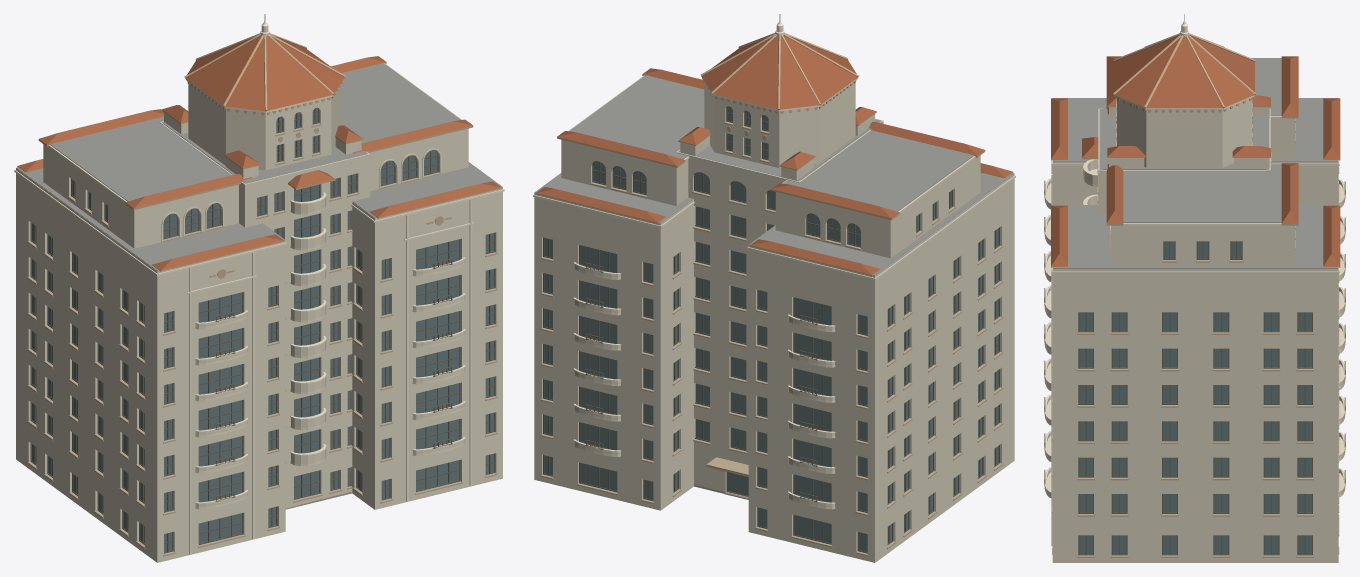
File: jingan-huaye-apartments-lod.glb
The picture shows the model from 3 angles, left to right: view 1: azimuth 30°, elevation 25°; view 2: azimuth 150°, elevation 25°; view 3: azimuth 270°, elevation 25°; orthographic projection. The views are drawn at different scales.
Visible parts, largest first — view 1: 华业公寓主楼（H形住宅与中央红瓦塔）; view 2: 华业公寓主楼（H形住宅与中央红瓦塔）; view 3: 华业公寓主楼（H形住宅与中央红瓦塔）.
Part boxes in pixels (x1,y1,x2,y2): 华业公寓主楼（H形住宅与中央红瓦塔）: (14, 14, 504, 562); 华业公寓主楼（H形住宅与中央红瓦塔）: (533, 14, 1015, 562); 华业公寓主楼（H形住宅与中央红瓦塔）: (1044, 14, 1345, 562).
Bounding box in the file's own units: 33.88 × 42.76 × 25.24.
